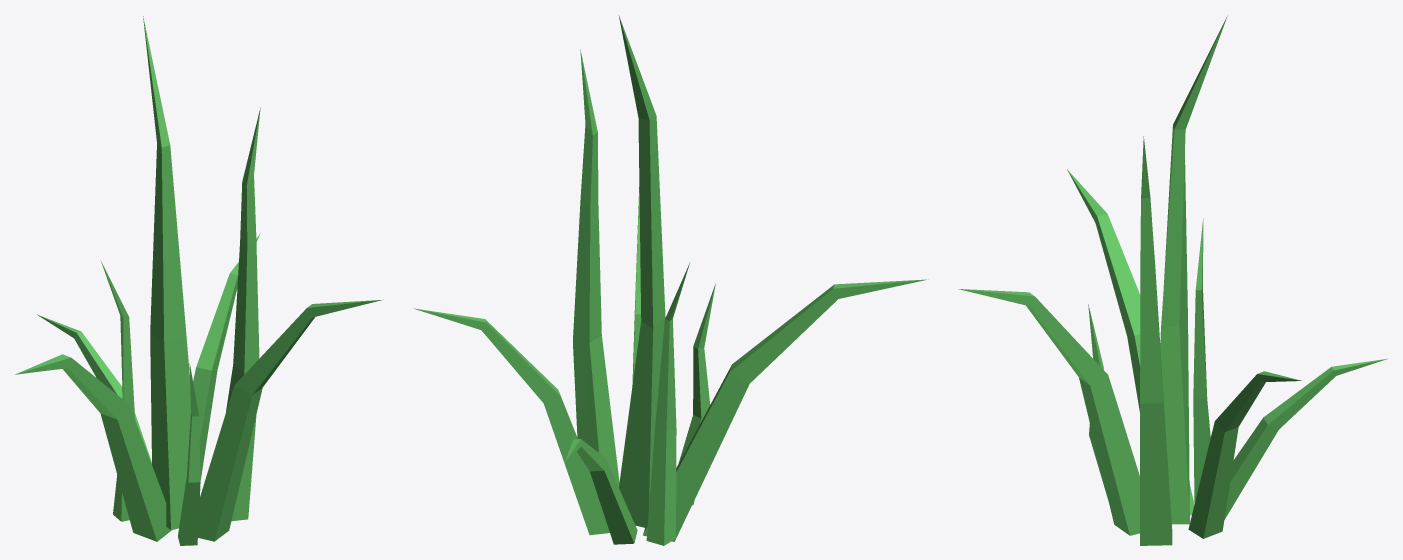
The model's file is Grass_1.fbx.
The picture shows the model from 3 angles, left to right: view 1: azimuth 30°, elevation 25°; view 2: azimuth 150°, elevation 25°; view 3: azimuth 270°, elevation 25°; orthographic projection. The views are drawn at different scales.
Parts seen in each view (by area): view 1: Grass_01; view 2: Grass_01; view 3: Grass_01.
Boxes of the visible parts, left/top/right/bottom form: Grass_01: left=15, top=16, right=383, bottom=545; Grass_01: left=413, top=15, right=928, bottom=545; Grass_01: left=958, top=15, right=1387, bottom=545.
Size of the model in its own units: 173 by 227 by 175.
